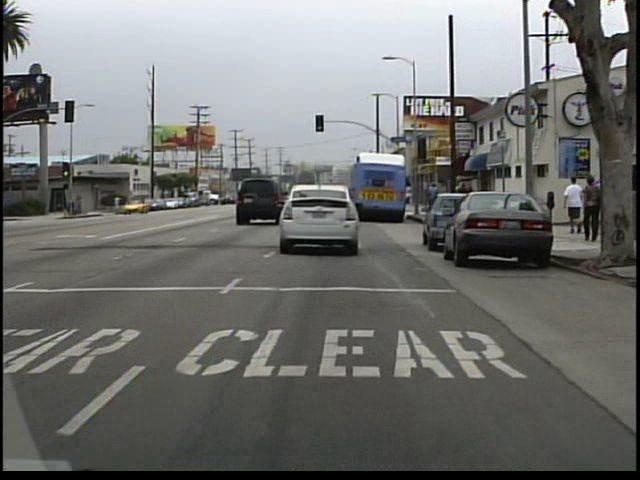person: (578, 174, 601, 242), (560, 172, 583, 235), (424, 180, 443, 221), (113, 194, 124, 213)
